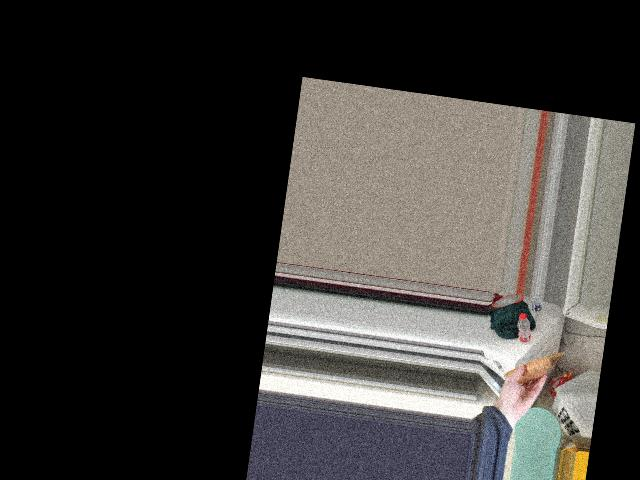sweet_potato: (509, 354, 548, 384)
